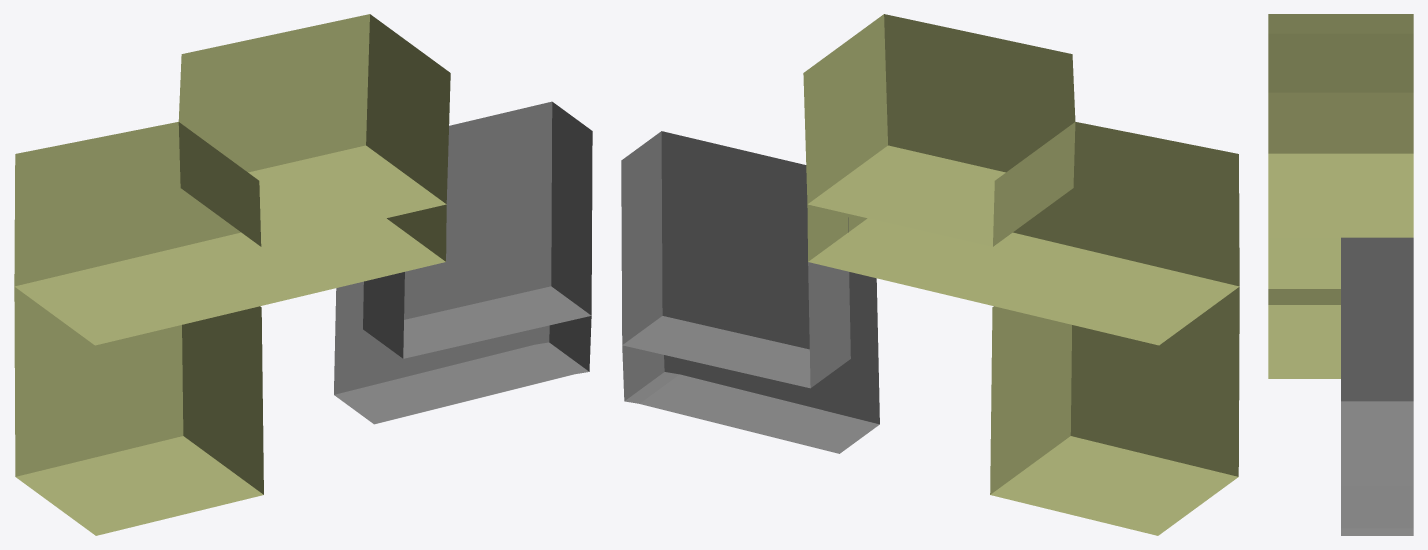
3 views of the same model, side by side, from view 1: azimuth 30°, elevation 25°; view 2: azimuth 150°, elevation 25°; view 3: azimuth 270°, elevation 25° (orthographic). The views are drawn at different scales.
Parts seen in each view (by area): view 1: 0_0_3_1_3_1_2_2_0_3; view 2: 0_0_3_1_3_1_2_2_0_3; view 3: 0_0_3_1_3_1_2_2_0_3.
Boxes of the visible parts, bbox=[...] form: 0_0_3_1_3_1_2_2_0_3: bbox=[14, 14, 592, 535]; 0_0_3_1_3_1_2_2_0_3: bbox=[621, 14, 1239, 535]; 0_0_3_1_3_1_2_2_0_3: bbox=[1268, 14, 1413, 535].
Bounding box in the file's own units: 23.1 × 15.69 × 6.
